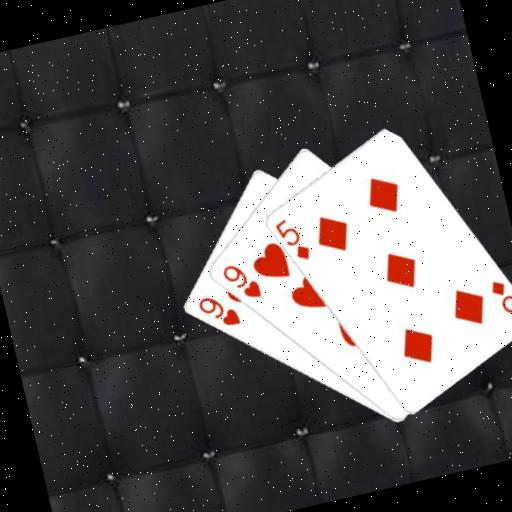5D: (270, 212, 313, 267), (485, 271, 512, 327)
9H: (193, 288, 243, 335), (218, 256, 264, 307)
